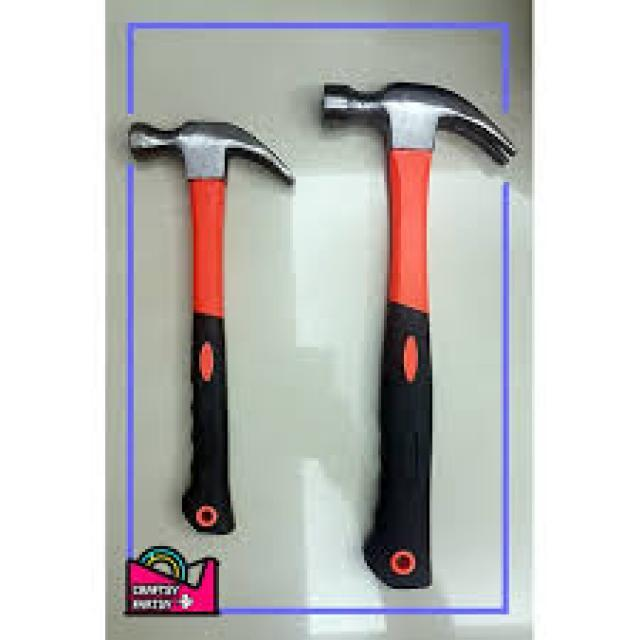hammer: (316, 71, 520, 597), (122, 109, 302, 542)
